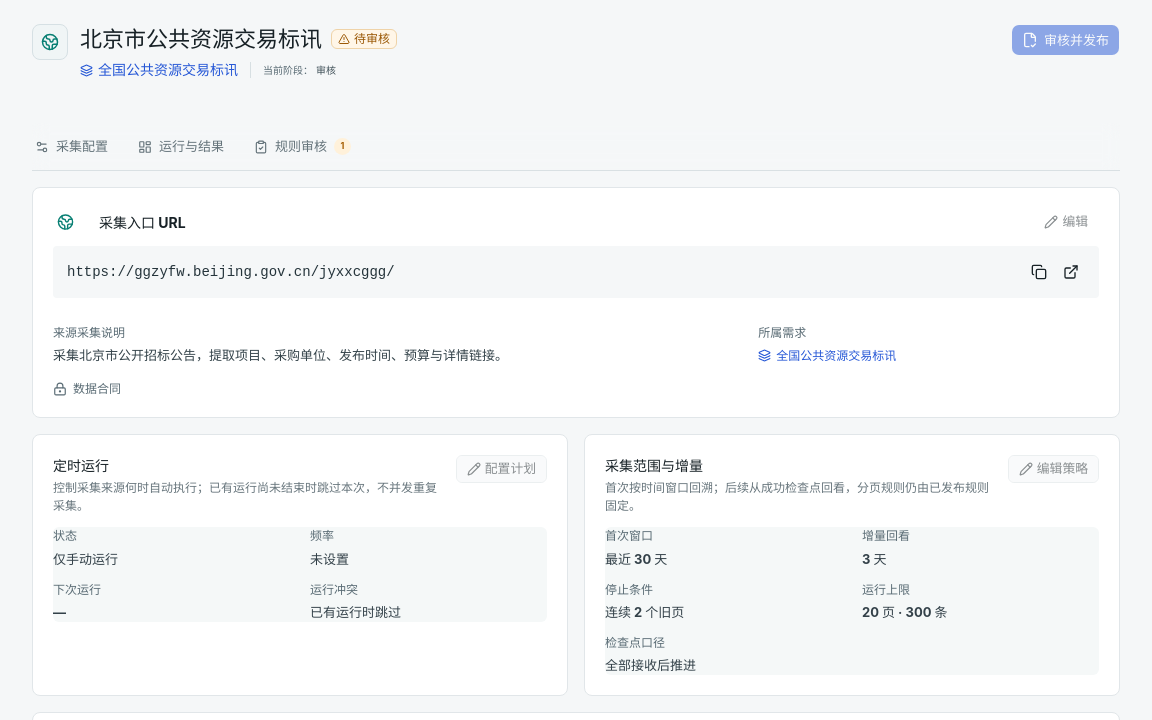
Test: copies the exact URL with success feedback without changing the source
Click the button named "复制采集入口 URL" at (1039, 272), box [1025, 258, 1053, 286]
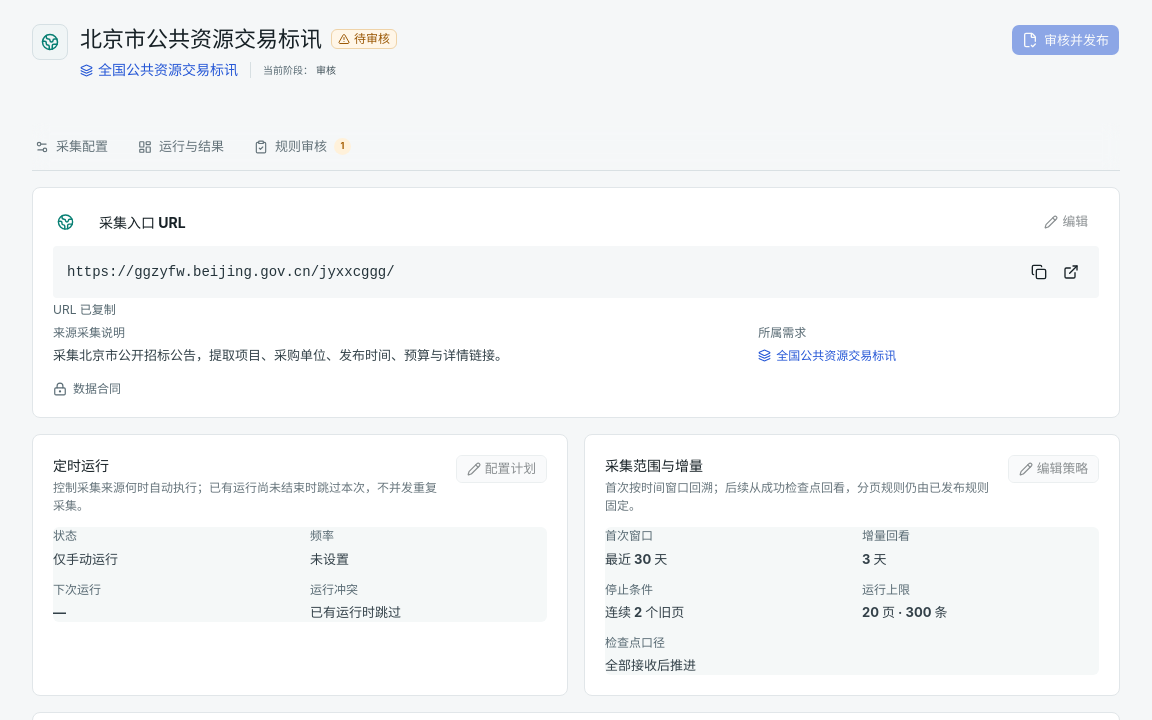
expect the message reads "URL 已复制": met, box [53, 302, 116, 317]
